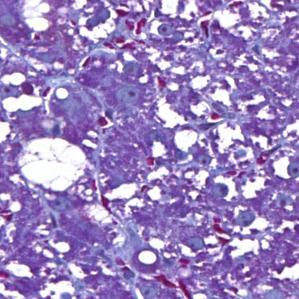ballooning: (15, 135, 90, 195)
